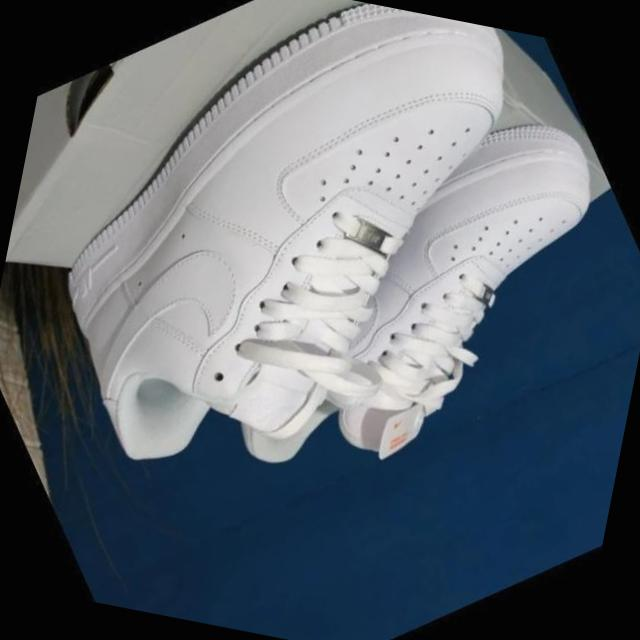nike_original_airforce: (0, 0, 640, 581), (123, 30, 640, 573)
